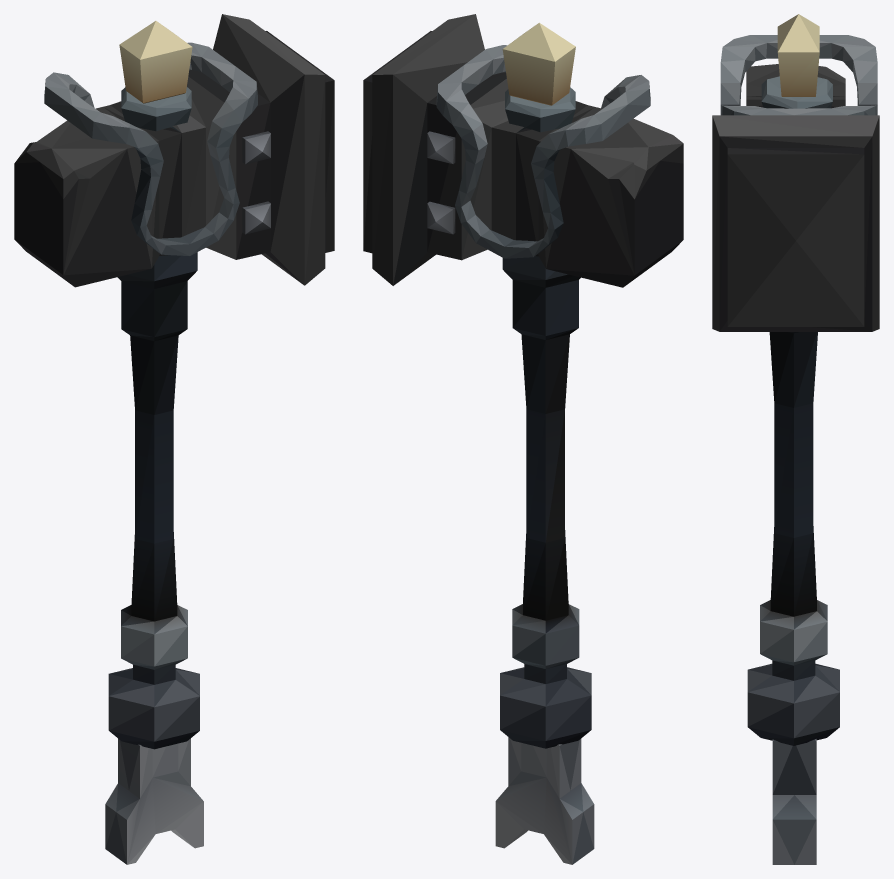
Rendered from weapon_hammer_silver_2.fbx.
3 views of the same model, side by side, from view 1: azimuth 30°, elevation 25°; view 2: azimuth 150°, elevation 25°; view 3: azimuth 270°, elevation 25° (orthographic).
Parts seen in each view (by area): view 1: weapon_hammer_silver_2; view 2: weapon_hammer_silver_2; view 3: weapon_hammer_silver_2.
Boxes of the visible parts, bbox=[...] form: weapon_hammer_silver_2: bbox=[14, 14, 334, 864]; weapon_hammer_silver_2: bbox=[363, 14, 683, 864]; weapon_hammer_silver_2: bbox=[712, 14, 879, 864].
Size of the model in its own units: 0.9844 by 2.96 by 0.5371.
